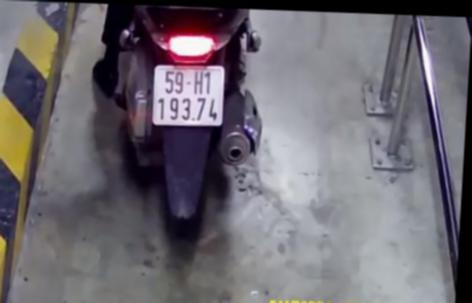License_Plate: (143, 60, 234, 131)
